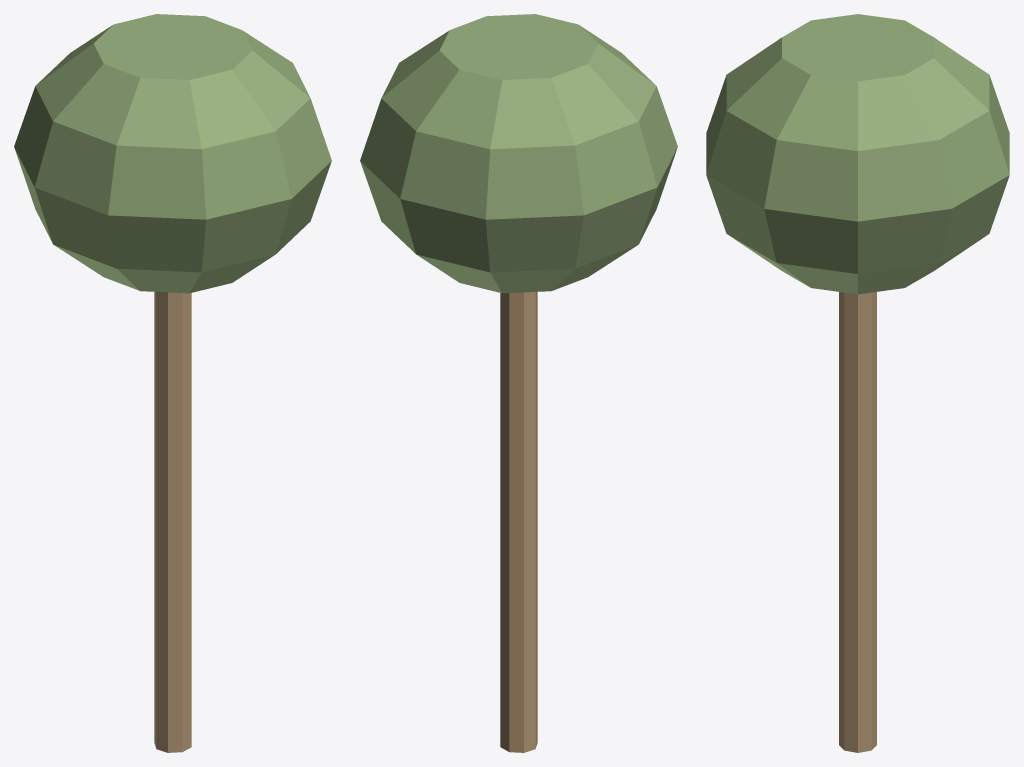
The model's file is oak-arch-11.glb.
3 views of the same model, side by side, from view 1: azimuth 30°, elevation 25°; view 2: azimuth 150°, elevation 25°; view 3: azimuth 270°, elevation 25° (orthographic).
Visible parts, largest first — view 1: living roof, timber; view 2: living roof, timber; view 3: living roof, timber.
Boxes of the visible parts, x1,y1,x2,y2 form: living roof: (14,14,331,293); timber: (154,292,191,752); living roof: (360,14,677,293); timber: (500,292,537,752); living roof: (706,14,1009,294); timber: (839,292,876,752).
Bounding box in the file's own units: 4.09 × 10.08 × 3.89.
